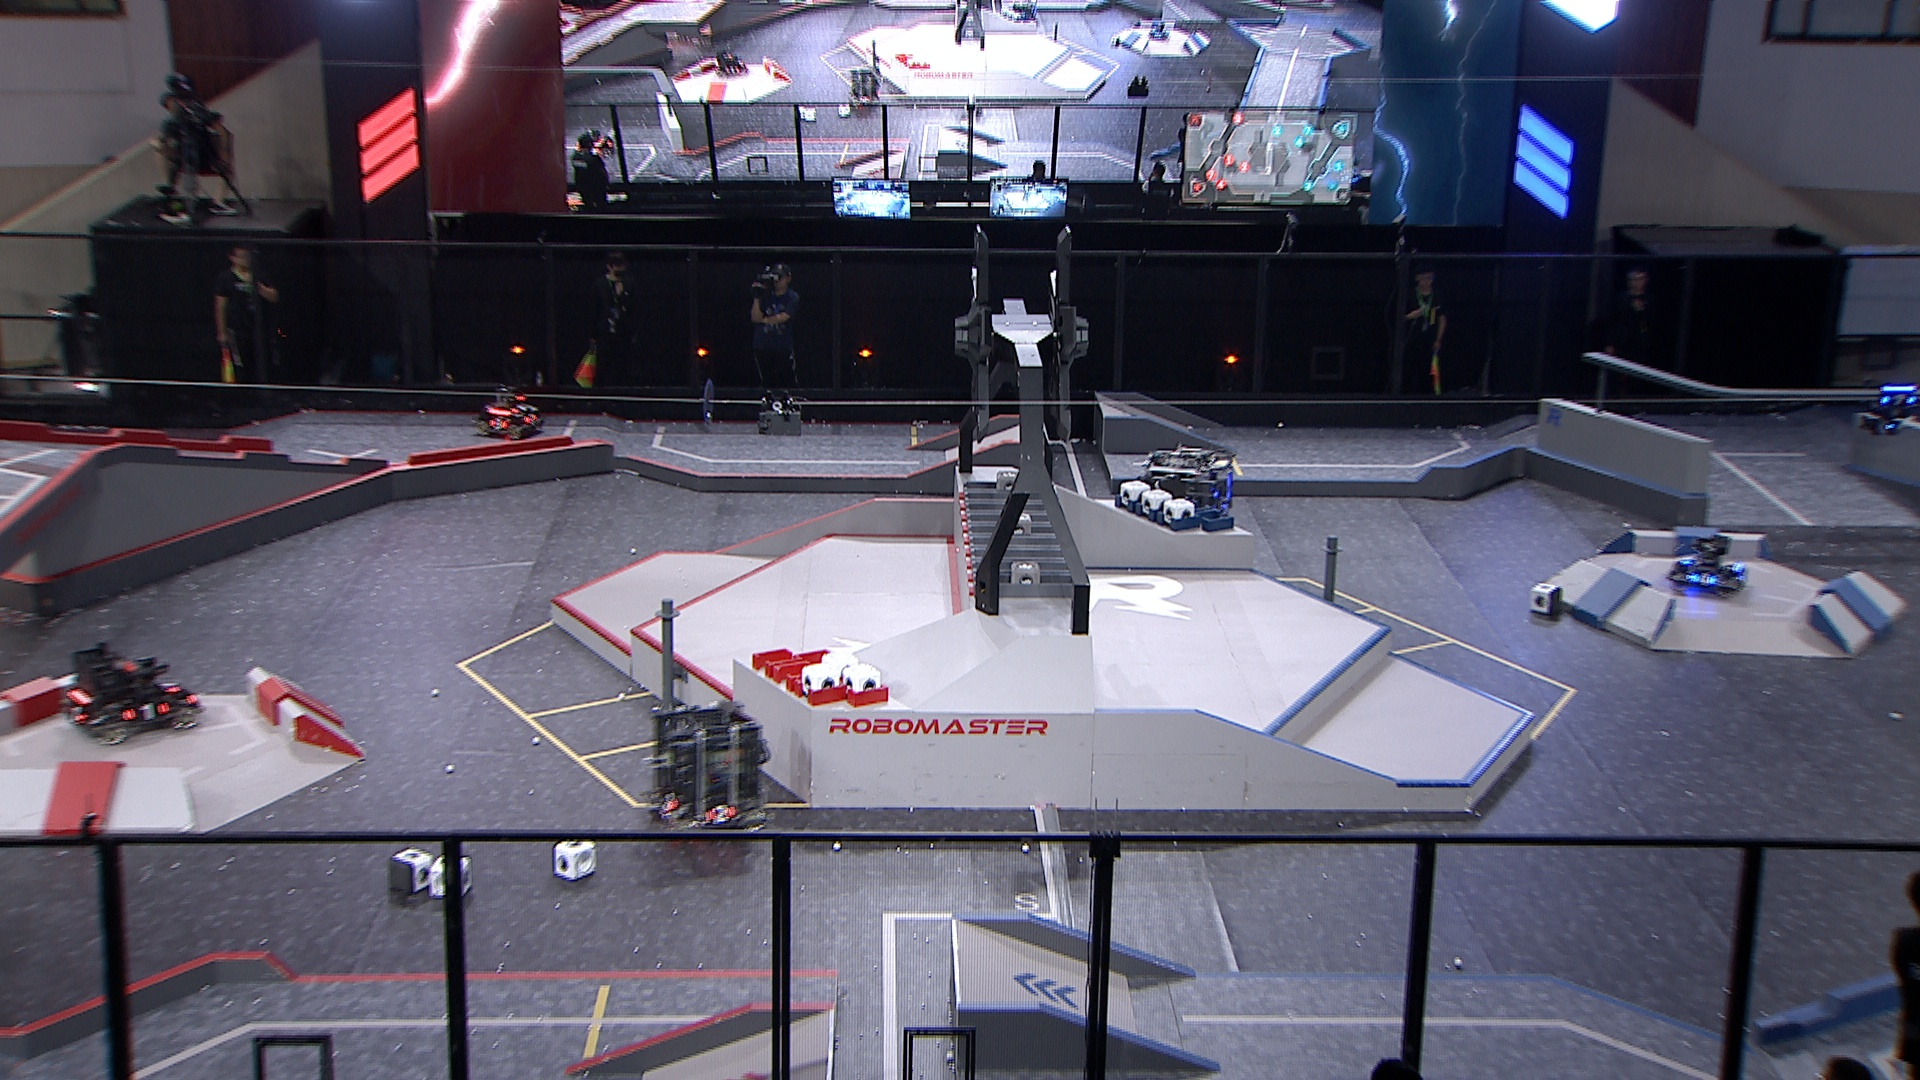armor: (657, 793, 688, 818), (131, 702, 166, 723), (1879, 392, 1917, 409), (704, 806, 736, 823), (157, 676, 183, 694), (65, 704, 84, 725), (1679, 550, 1697, 568), (487, 417, 508, 431), (1691, 571, 1712, 585), (512, 401, 529, 415), (522, 411, 538, 425)
car: (646, 698, 774, 837), (59, 638, 204, 746), (1135, 440, 1245, 545), (1662, 529, 1747, 599), (471, 385, 547, 443)
ignore: (845, 61, 887, 112), (575, 125, 617, 158), (713, 40, 749, 76), (1139, 17, 1172, 44)
watcher: (1859, 367, 1920, 439)
